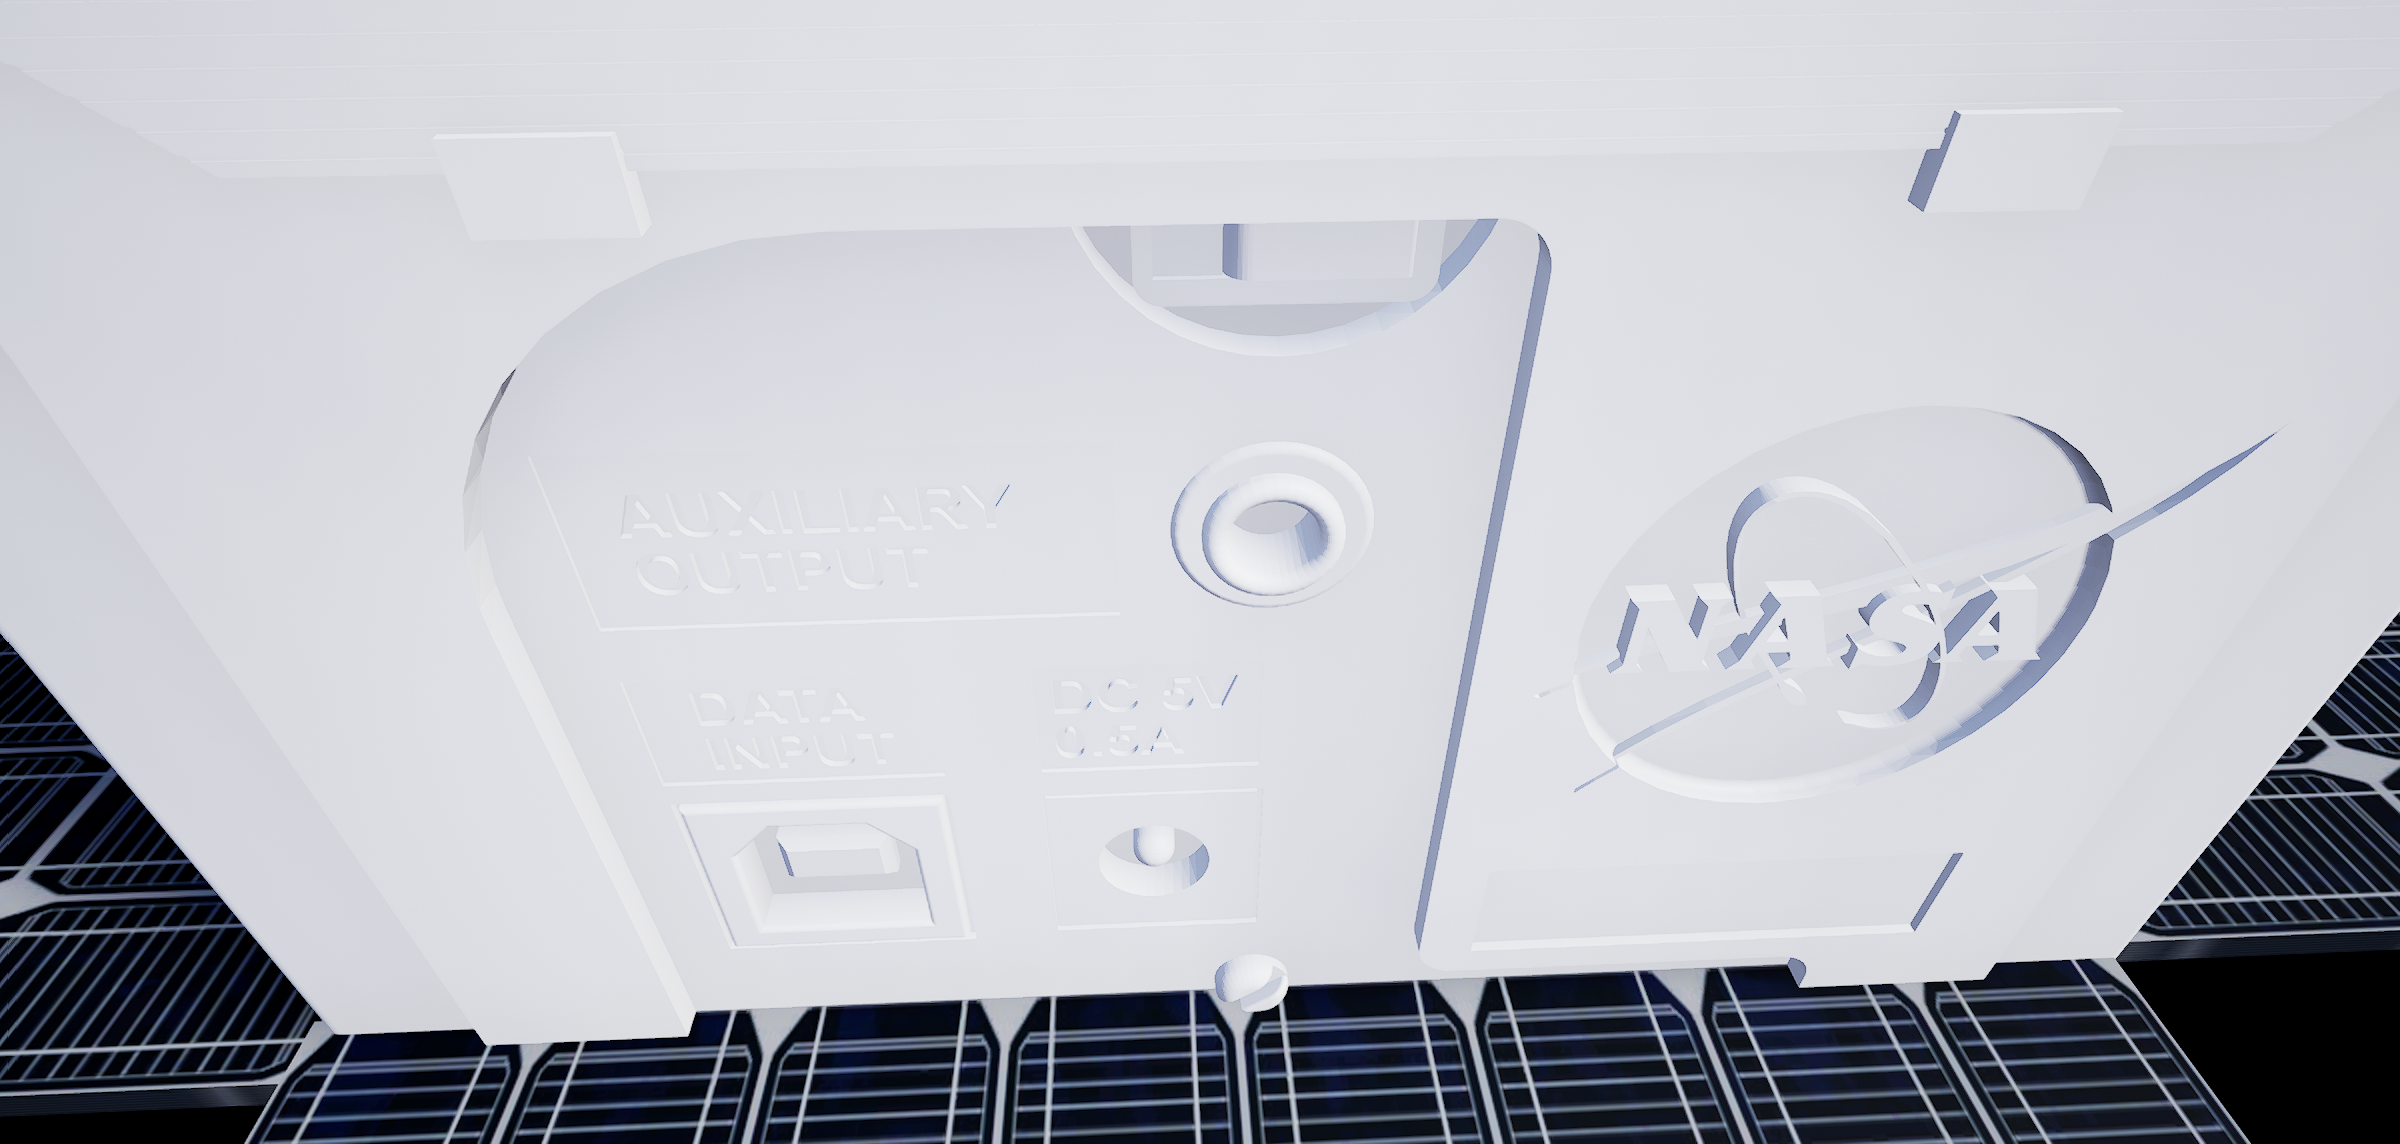aux: (1153, 427, 1402, 629)
dc: (1090, 822, 1238, 900)
usb: (729, 813, 940, 950)
